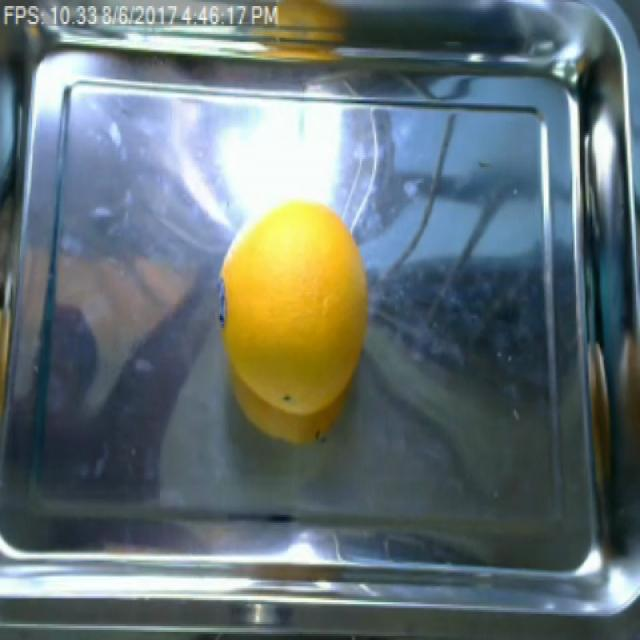Fruit: (214, 195, 374, 447), (270, 0, 354, 36)
